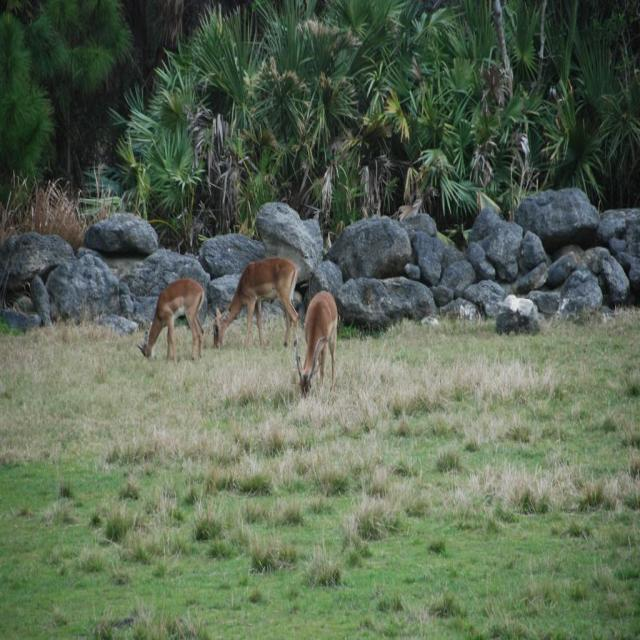Deer: (210, 256, 300, 351), (135, 278, 205, 367), (296, 290, 336, 400)
